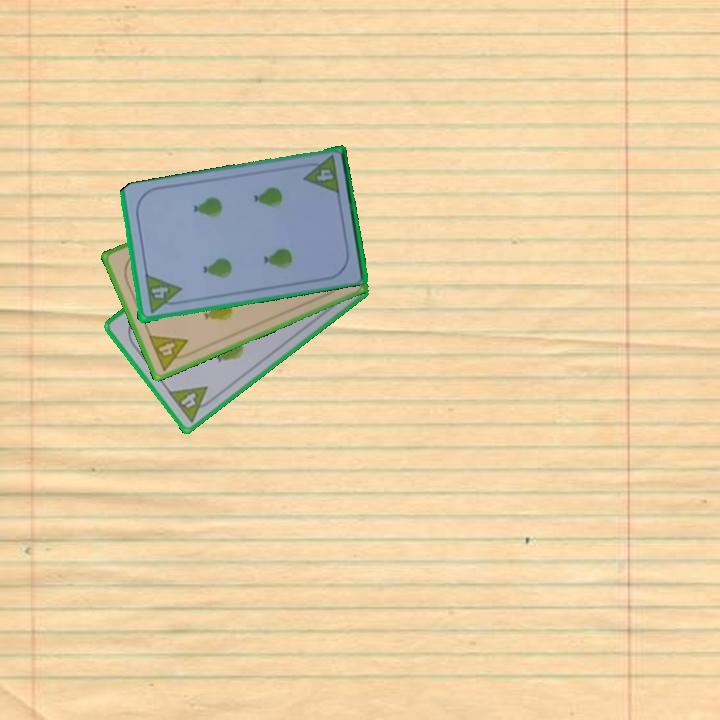4p: (164, 383, 218, 425), (145, 331, 196, 374), (298, 152, 342, 197), (141, 272, 185, 316)
